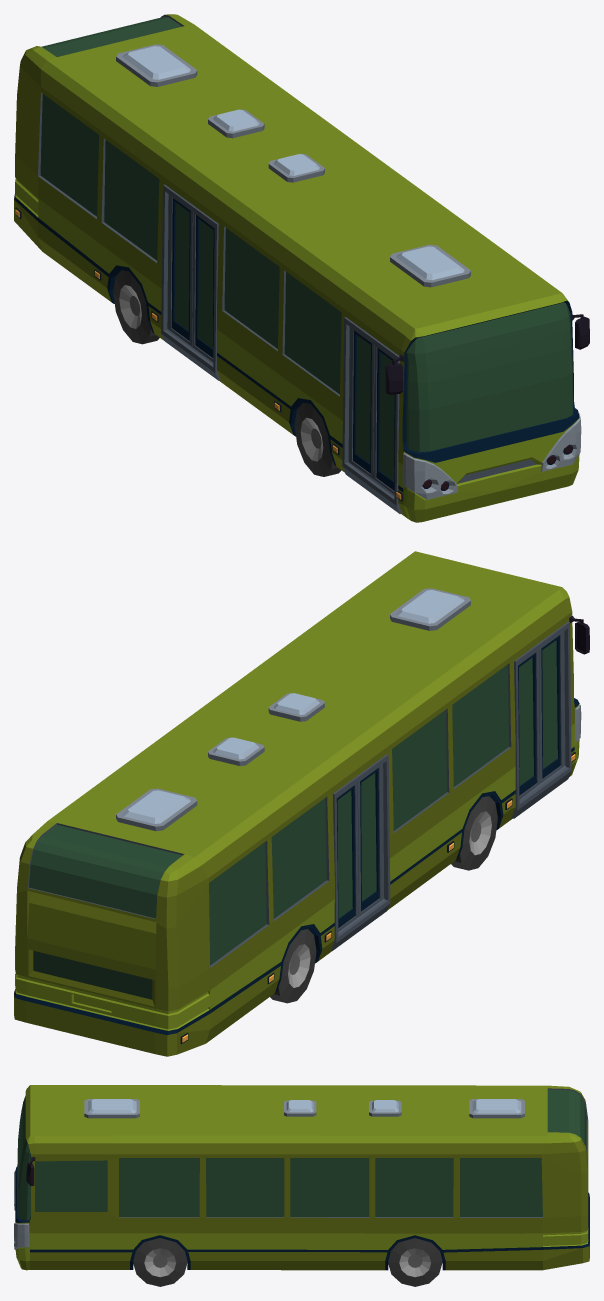
File: Bus.fbx
3 views of the same model, one above another, from view 1: azimuth 30°, elevation 25°; view 2: azimuth 150°, elevation 25°; view 3: azimuth 270°, elevation 25° (orthographic). The views are drawn at different scales.
Visible parts, largest first — view 1: Bus, SM_Veh_Bus_Glass, SM_Veh_Bus_Wheel_rl1, SM_Veh_Bus_Wheel_rl, SM_Veh_Bus_Door_02, SM_Veh_Bus_Door_04, SM_Veh_Bus_Door_03_Glass, SM_Veh_Bus_Door_04_Glass, SM_Veh_Bus_Door_02_Glass, SM_Veh_Bus_Door_01_Glass, SM_Veh_Bus_Door_03, SM_Veh_Bus_Door_01; view 2: Bus, SM_Veh_Bus_Glass, SM_Veh_Bus_Wheel_rl1, SM_Veh_Bus_Wheel_rl, SM_Veh_Bus_Door_03, SM_Veh_Bus_Door_01, SM_Veh_Bus_Door_03_Glass, SM_Veh_Bus_Door_01_Glass, SM_Veh_Bus_Door_04_Glass, SM_Veh_Bus_Door_02_Glass, SM_Veh_Bus_Door_02, SM_Veh_Bus_Door_04; view 3: Bus, SM_Veh_Bus_Glass, SM_Veh_Bus_Wheel_rl1, SM_Veh_Bus_Wheel_rl.
Boxes of the visible parts, left/top/right/bottom form: Bus: left=14, top=14, right=589, bottom=522; SM_Veh_Bus_Glass: left=40, top=16, right=573, bottom=452; SM_Veh_Bus_Wheel_rl1: left=294, top=403, right=341, bottom=476; SM_Veh_Bus_Wheel_rl: left=113, top=270, right=159, bottom=344; SM_Veh_Bus_Door_02: left=348, top=327, right=374, bottom=478; SM_Veh_Bus_Door_04: left=167, top=194, right=193, bottom=346; SM_Veh_Bus_Door_03_Glass: left=198, top=220, right=213, bottom=348; SM_Veh_Bus_Door_04_Glass: left=174, top=203, right=189, bottom=330; SM_Veh_Bus_Door_02_Glass: left=355, top=335, right=370, bottom=463; SM_Veh_Bus_Door_01_Glass: left=379, top=352, right=394, bottom=480; SM_Veh_Bus_Door_03: left=192, top=212, right=214, bottom=361; SM_Veh_Bus_Door_01: left=373, top=345, right=395, bottom=493; Bus: left=14, top=551, right=589, bottom=1056; SM_Veh_Bus_Glass: left=29, top=664, right=508, bottom=965; SM_Veh_Bus_Wheel_rl1: left=451, top=796, right=497, bottom=870; SM_Veh_Bus_Wheel_rl: left=270, top=929, right=316, bottom=1003; SM_Veh_Bus_Door_03: left=357, top=764, right=384, bottom=916; SM_Veh_Bus_Door_01: left=539, top=631, right=565, bottom=783; SM_Veh_Bus_Door_03_Glass: left=361, top=773, right=376, bottom=901; SM_Veh_Bus_Door_01_Glass: left=542, top=640, right=557, bottom=768; SM_Veh_Bus_Door_04_Glass: left=337, top=790, right=352, bottom=918; SM_Veh_Bus_Door_02_Glass: left=519, top=657, right=533, bottom=785; SM_Veh_Bus_Door_02: left=518, top=650, right=539, bottom=799; SM_Veh_Bus_Door_04: left=336, top=782, right=358, bottom=931; Bus: left=14, top=1085, right=589, bottom=1270; SM_Veh_Bus_Glass: left=17, top=1089, right=586, bottom=1220; SM_Veh_Bus_Wheel_rl1: left=133, top=1238, right=187, bottom=1286; SM_Veh_Bus_Wheel_rl: left=388, top=1238, right=442, bottom=1286.
Bounding box in the file's own units: 324 × 335 × 1133.
